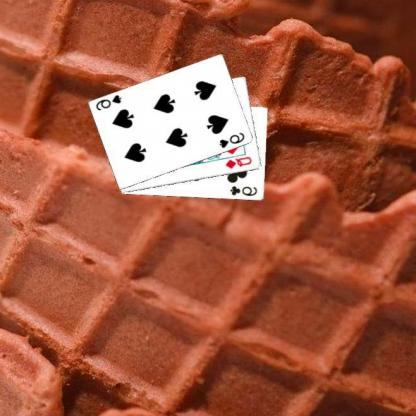6C: (230, 183, 260, 198)
6S: (96, 92, 124, 112), (219, 130, 248, 149)
QD: (224, 154, 255, 170)
